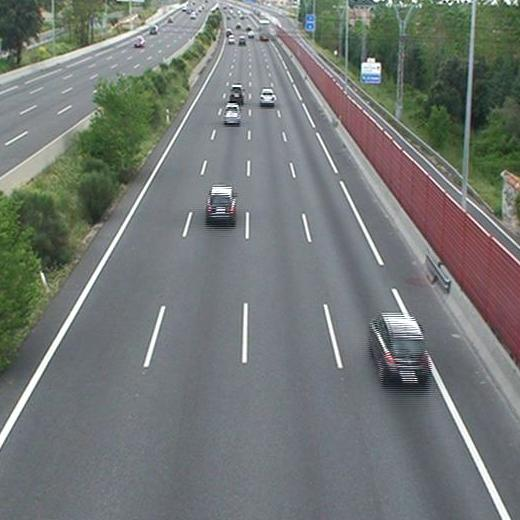car: (370, 314, 429, 382), (206, 186, 235, 218), (223, 104, 240, 124), (259, 89, 276, 104), (230, 85, 244, 100), (238, 36, 246, 45), (227, 35, 234, 44)
truck: (259, 19, 270, 41)
